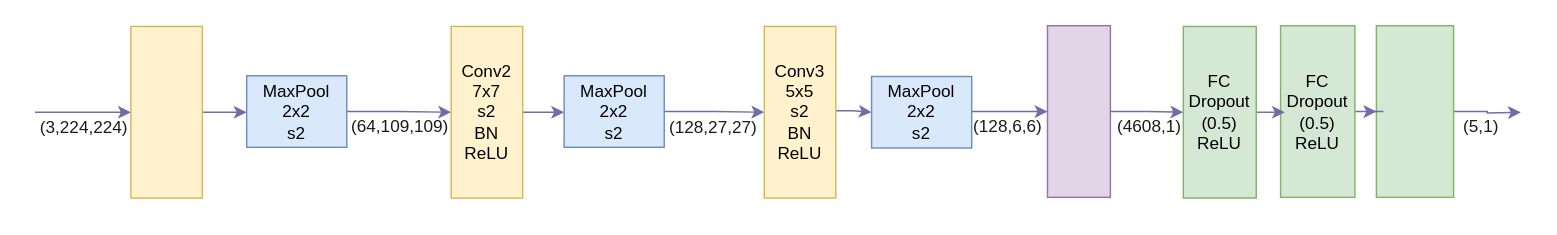
Image size: 1557x235. Some labels were removed from this diagram. Here are the shapes that lost their labels. From the top down, the centre of each, then its label:
At [165,111]: "Conv1 7x7 s1 BN ReLU".
At [1078,110]: "flatten".
At [1414,110]: "FC ReLU".
